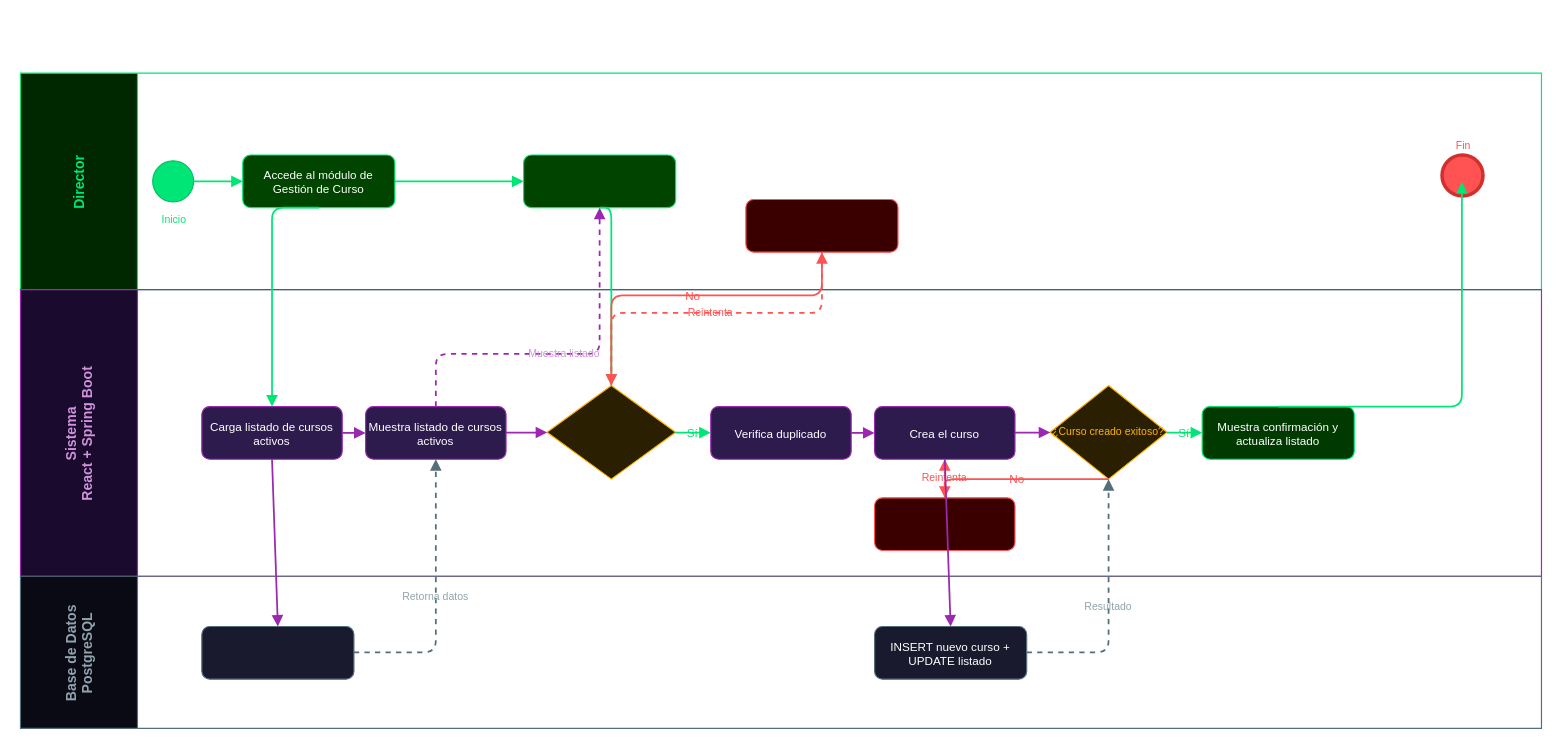
The diagram is 1562 pixels wide and 749 high, and some of its shapes have lost their labels. The centre of each missing label's shape, as x and y in pixels:
"Completa datos del nuevo curso" belongs at point (599, 181).
"Corrige datos del curso" belongs at point (821, 225).
"Muestra error de creación" belongs at point (944, 523).
"SELECT cursos año académico vigente" belongs at point (277, 652).
"¿Datos del curso válidos?" belongs at point (611, 431).
